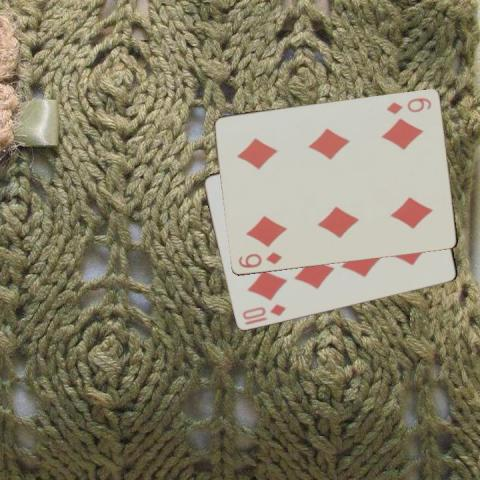10d: (240, 300, 288, 321)
6d: (384, 94, 434, 115), (236, 249, 284, 269)
